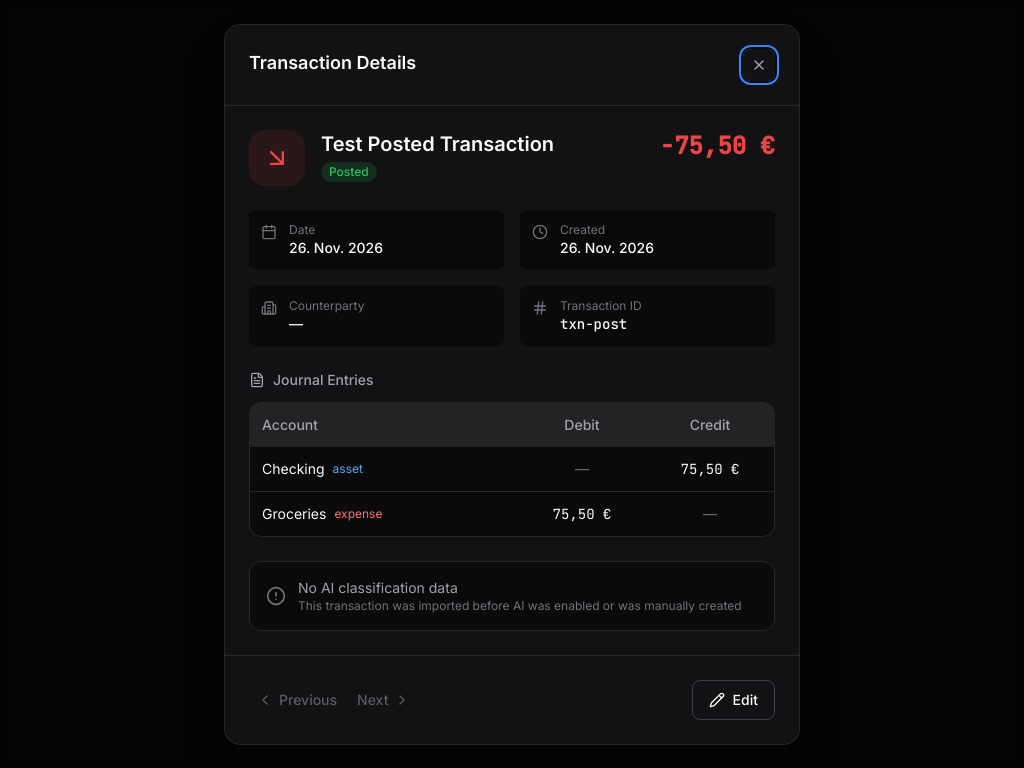
Test: TransactionDetailModal › Danger Zone › posted transaction deletion › enables delete button when amount matches (European format)
Click the button "Edit" at (733, 700), box top-left (692, 680), bottom-right (775, 720)
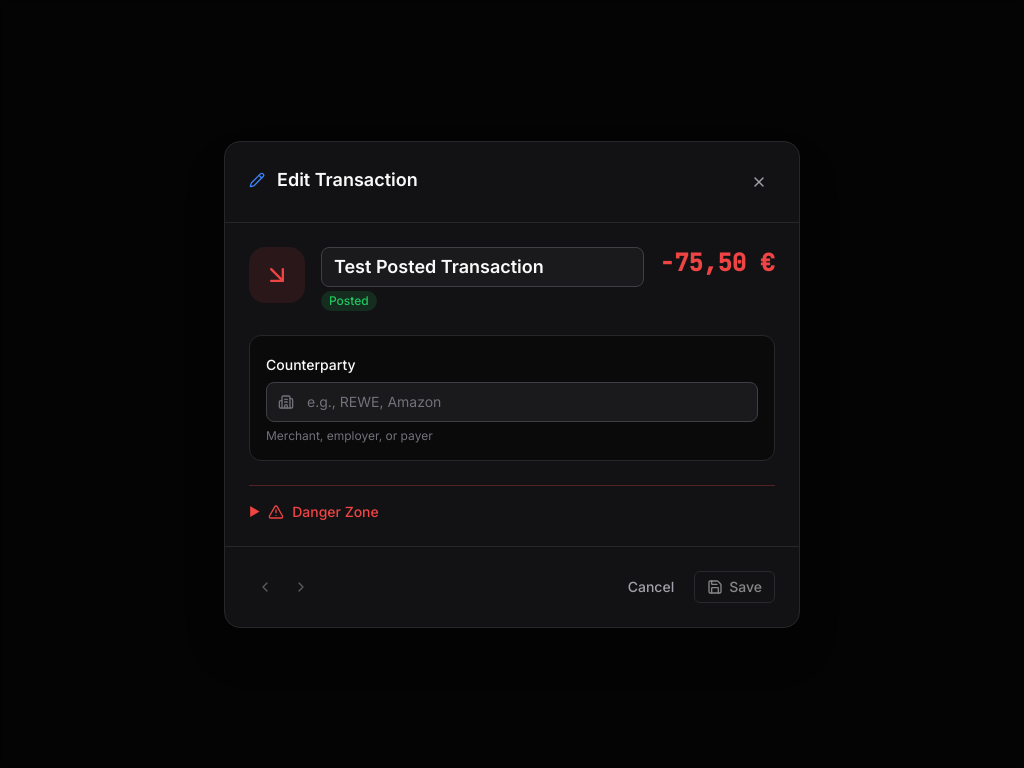
Expected: the heading "▶ Danger Zone" is shown
Click the heading "▶ Danger Zone" at (314, 511), box top-left (249, 502), bottom-right (379, 520)
(page scrolled)
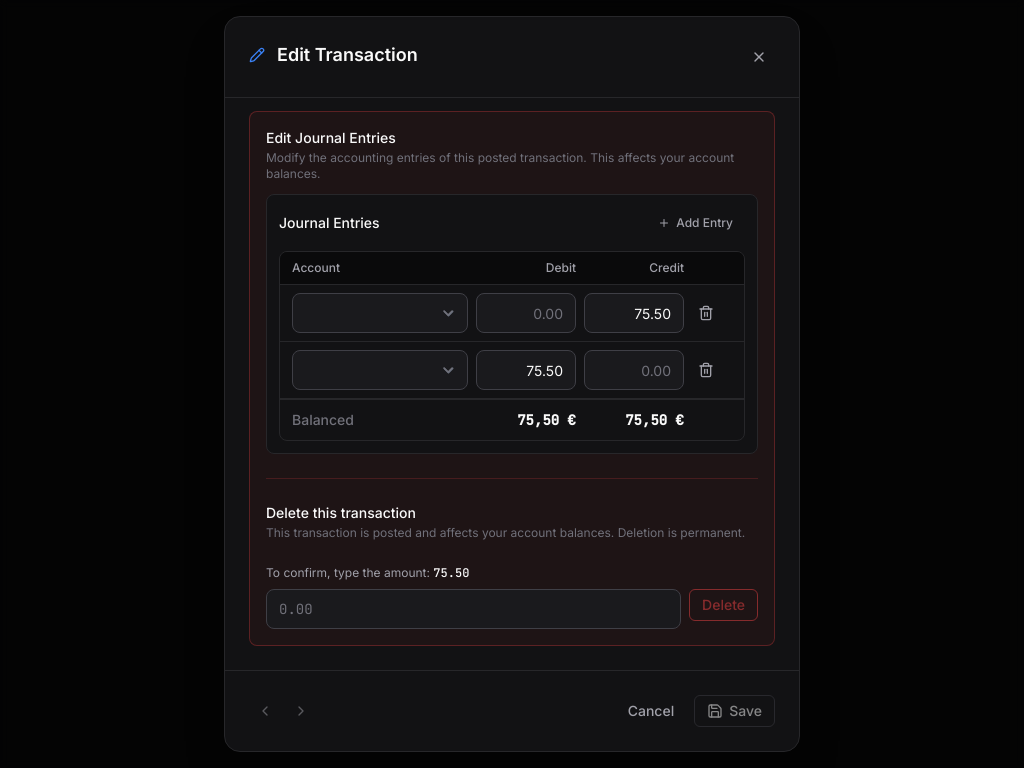
Expected: the field with test id "delete-confirm-amount" is shown
Type "75,50" into the field with test id "delete-confirm-amount" at (474, 609), box top-left (266, 589), bottom-right (681, 629)
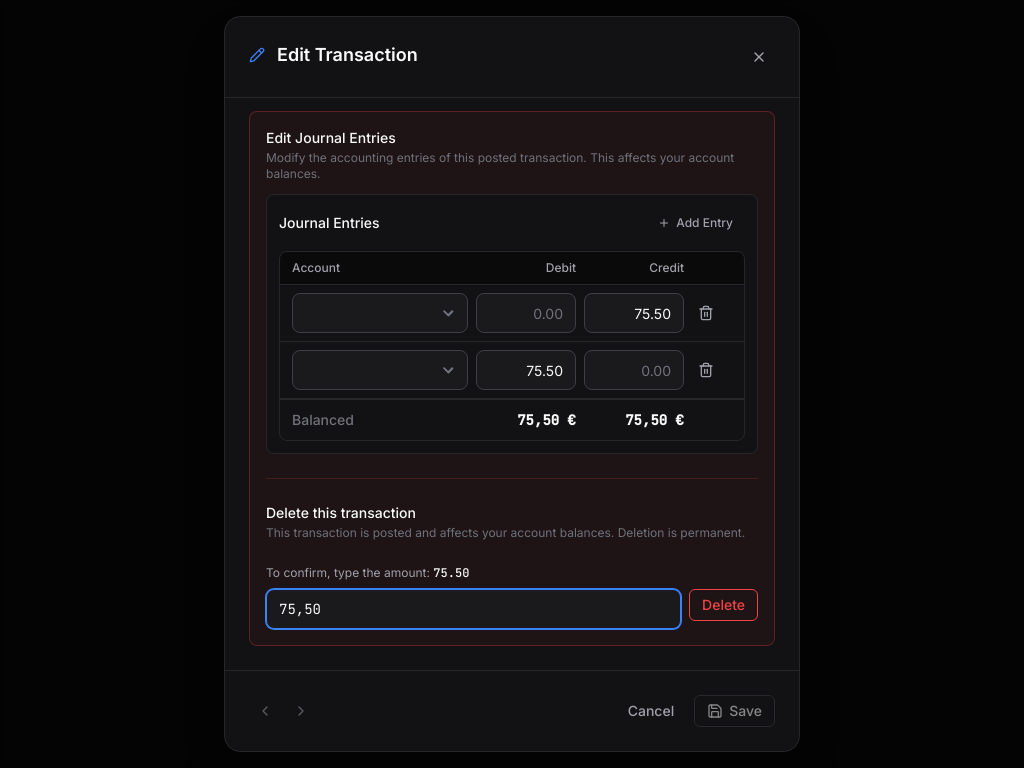
Expected: the button "Delete" is enabled, top-left (689, 589), bottom-right (758, 621)
